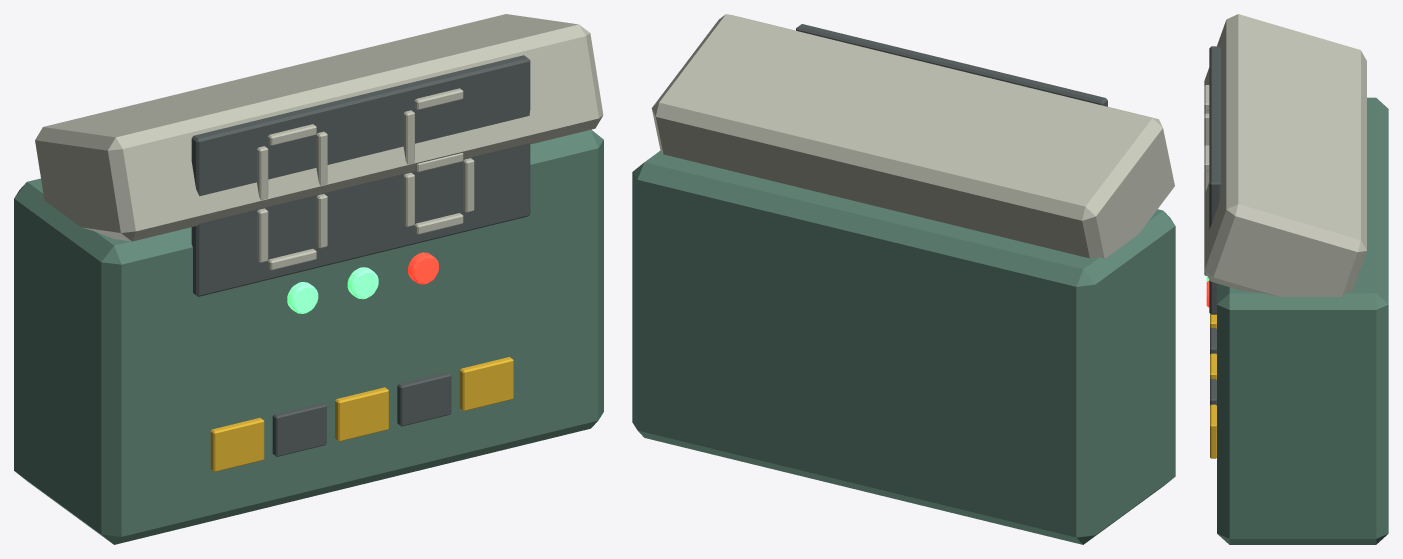
File: runtime.glb
3 views of the same model, side by side, from view 1: azimuth 30°, elevation 25°; view 2: azimuth 150°, elevation 25°; view 3: azimuth 270°, elevation 25° (orthographic). The views are drawn at different scales.
Visible parts, largest first — view 1: reactor-control-box-v06_nocol; view 2: reactor-control-box-v06_nocol; view 3: reactor-control-box-v06_nocol.
Part boxes in pixels (x1=…): reactor-control-box-v06_nocol: x1=14, y1=14, x2=603, y2=544; reactor-control-box-v06_nocol: x1=632, y1=14, x2=1175, y2=544; reactor-control-box-v06_nocol: x1=1204, y1=14, x2=1388, y2=544.
Size of the model in its own units: 2.33 by 1.78 by 0.8807.
